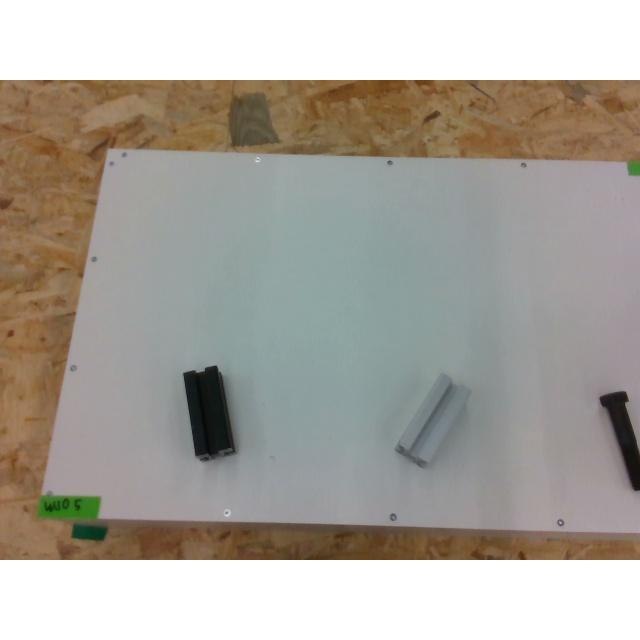M20_100: (599, 390, 639, 490)
S40_40_B: (183, 366, 235, 460)
S40_40_G: (394, 372, 470, 468)
